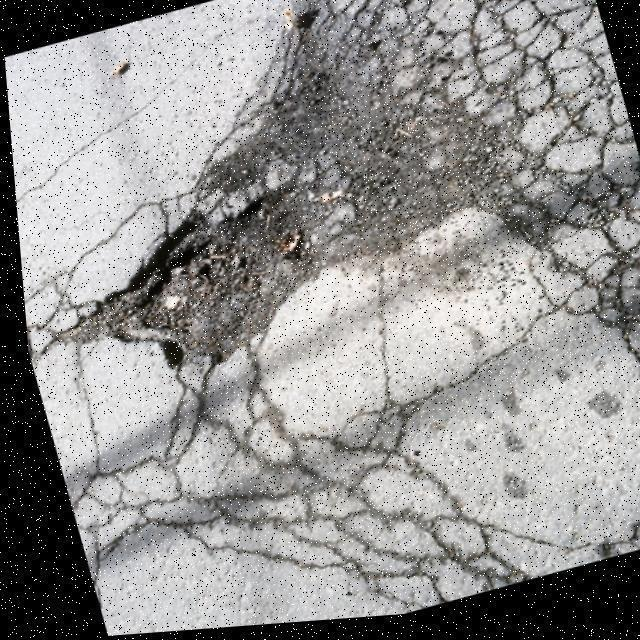Pothole: (46, 178, 333, 375)
